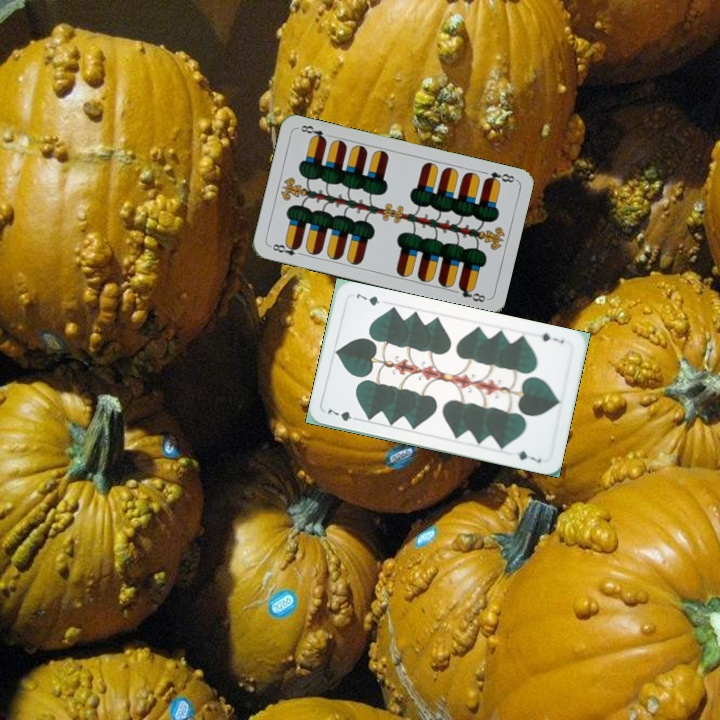E8: (266, 239, 306, 258), (480, 168, 518, 187)
G7: (323, 405, 362, 424), (532, 329, 567, 346)
